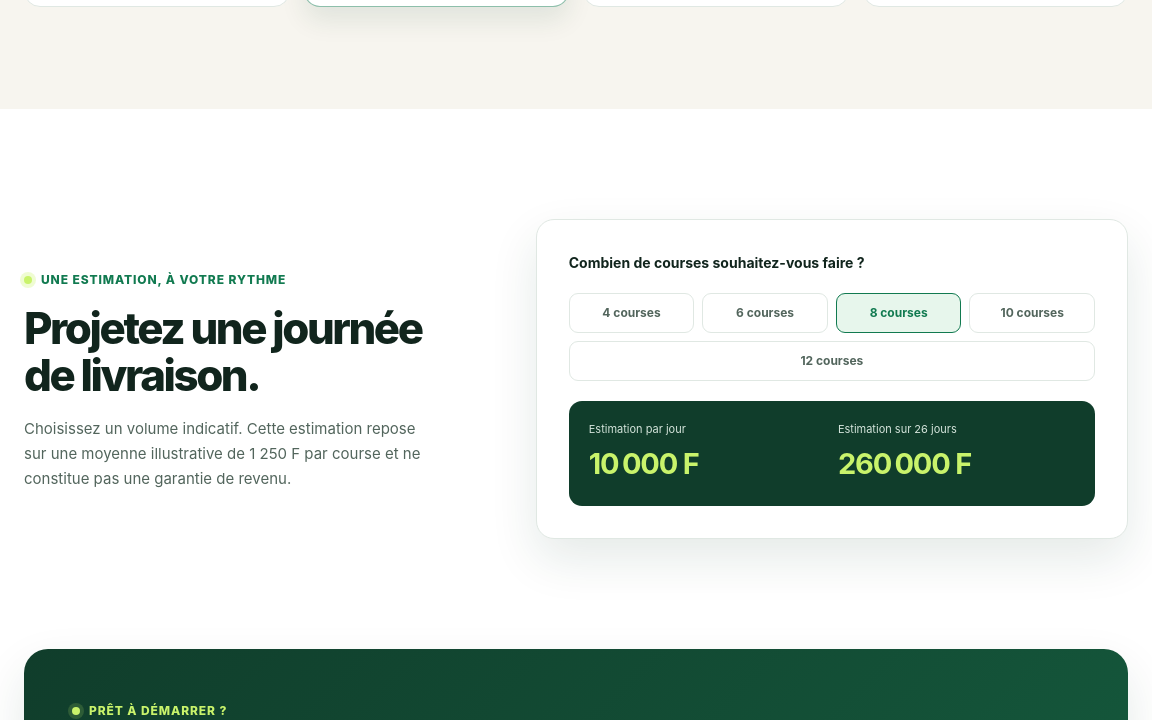
Test: LivreurPage › met à jour l’estimation lorsque le nombre de courses change
The image size is (1152, 720).
(page scrolled)
Expected: the text "10 000 F" is shown, [589,446,699,481]
Click the button "12 courses" at [832, 361], box [569,341,1095,381]
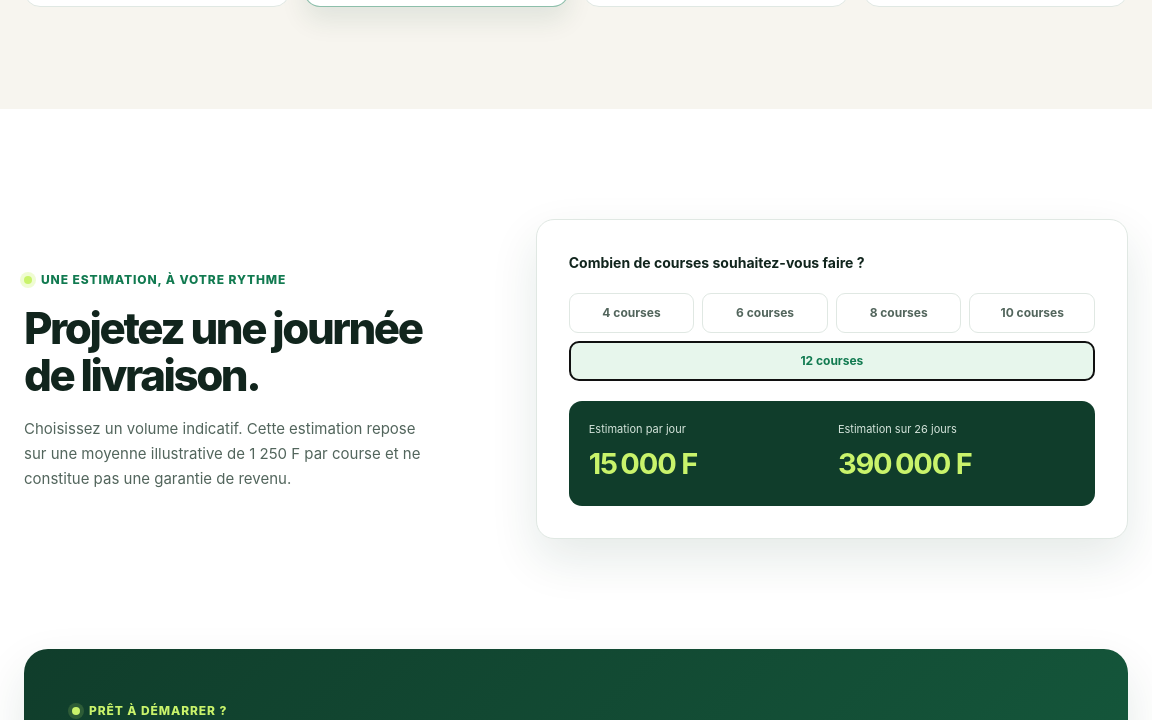
Result: the text "15 000 F" is shown at [589,446,697,481]
